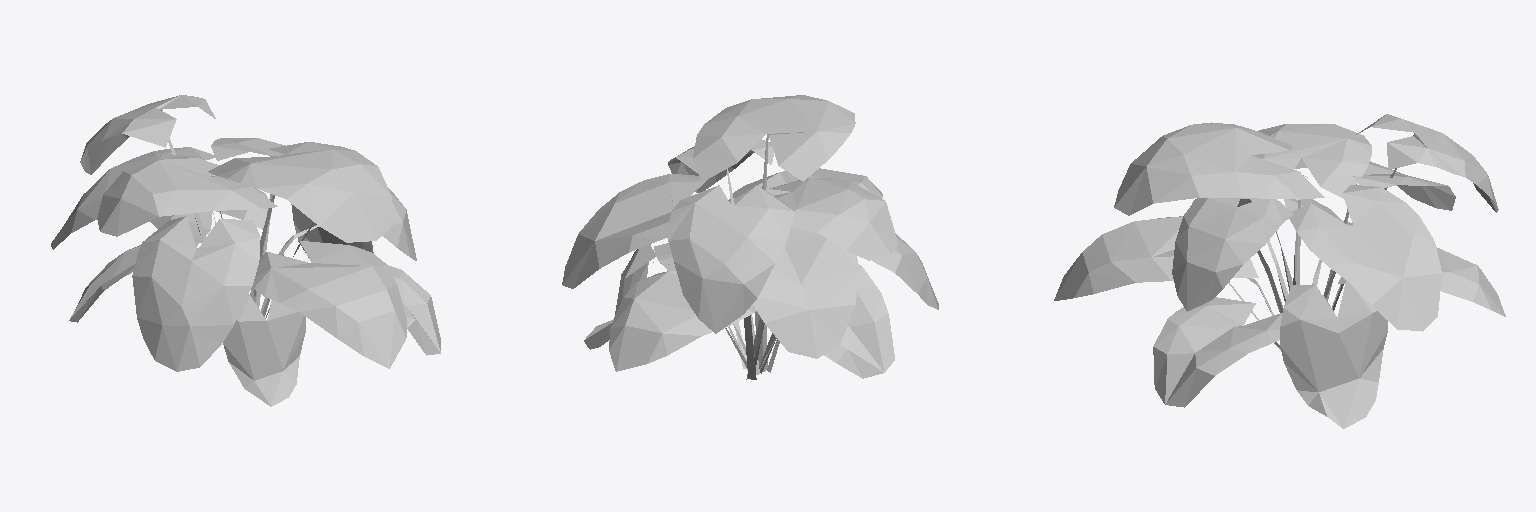
The model's file is planta_selva.obj.
The picture shows the model from 3 angles: view 1: azimuth 30°, elevation 25°; view 2: azimuth 150°, elevation 25°; view 3: azimuth 270°, elevation 25°; orthographic projection.
Parts seen in each view (by area): view 1: UnrealEdObject; view 2: UnrealEdObject; view 3: UnrealEdObject.
Boxes of the visible parts, box(x1,y1,x2,y2) form: UnrealEdObject: box(51, 95, 440, 406); UnrealEdObject: box(562, 95, 938, 379); UnrealEdObject: box(1054, 114, 1505, 428).
Bounding box in the file's own units: 3.38 × 2.44 × 4.34.